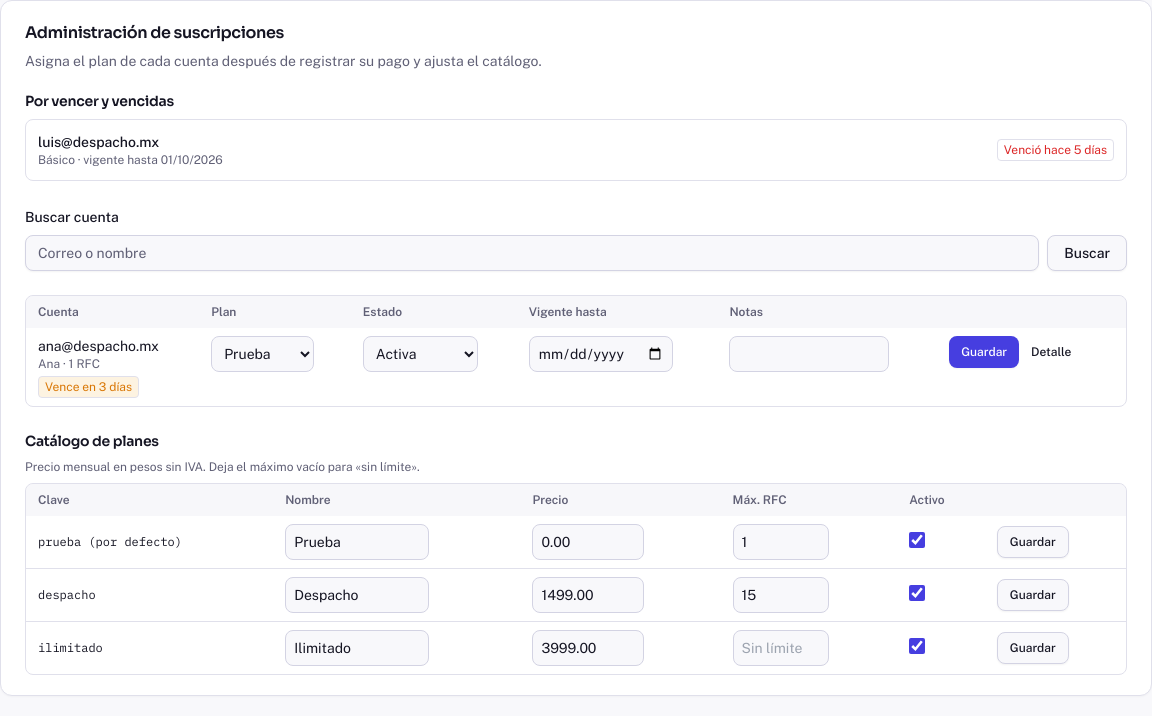
Scenario: AdminSuscripciones › el administrador abre el detalle de una cuenta
The image size is (1152, 716).
Expected: the text "Vence en 3 días" is shown, top-left (38, 376), bottom-right (139, 398)
Expected: the text "luis@despacho.mx" is shown, top-left (38, 134), bottom-right (159, 150)
Click the button with aria-label "Detalle de ana@despacho.mx": {"x": 1051, "y": 352} top-left (1019, 336), bottom-right (1083, 368)
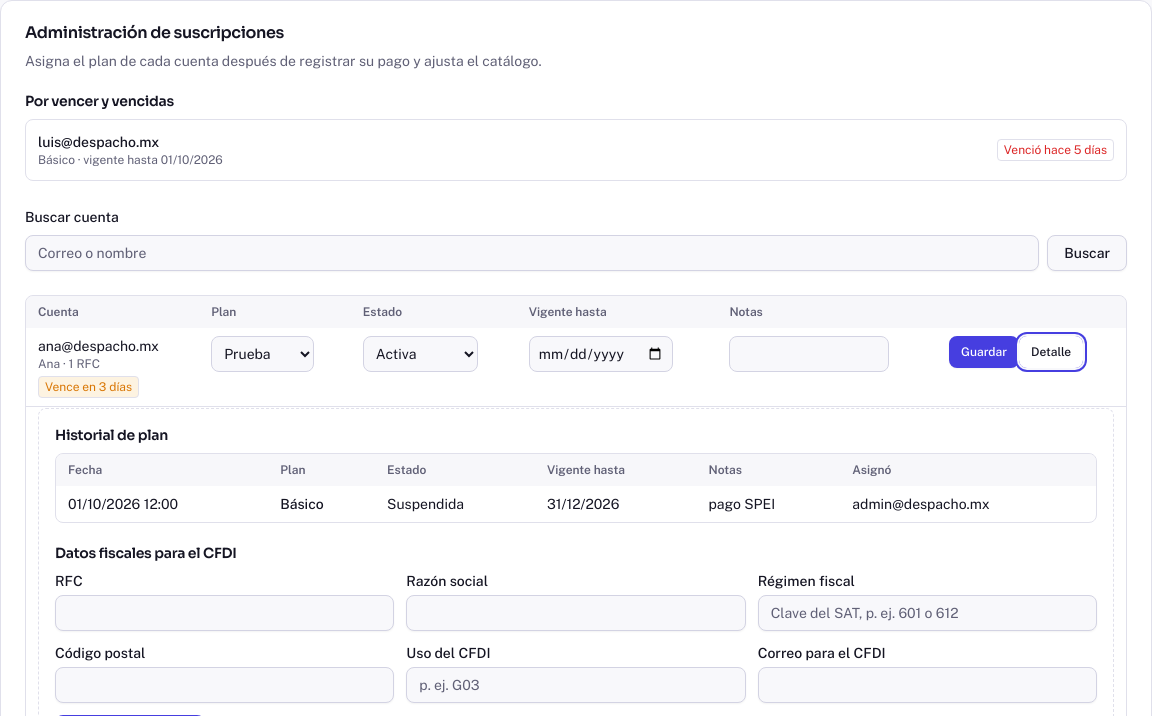
Result: the text "pago SPEI" is shown at top-left (696, 486), bottom-right (840, 522)
Result: the text "admin@despacho.mx" is shown at top-left (840, 486), bottom-right (1096, 522)
Result: the text "Suspendida" is shown at top-left (375, 486), bottom-right (535, 522)
